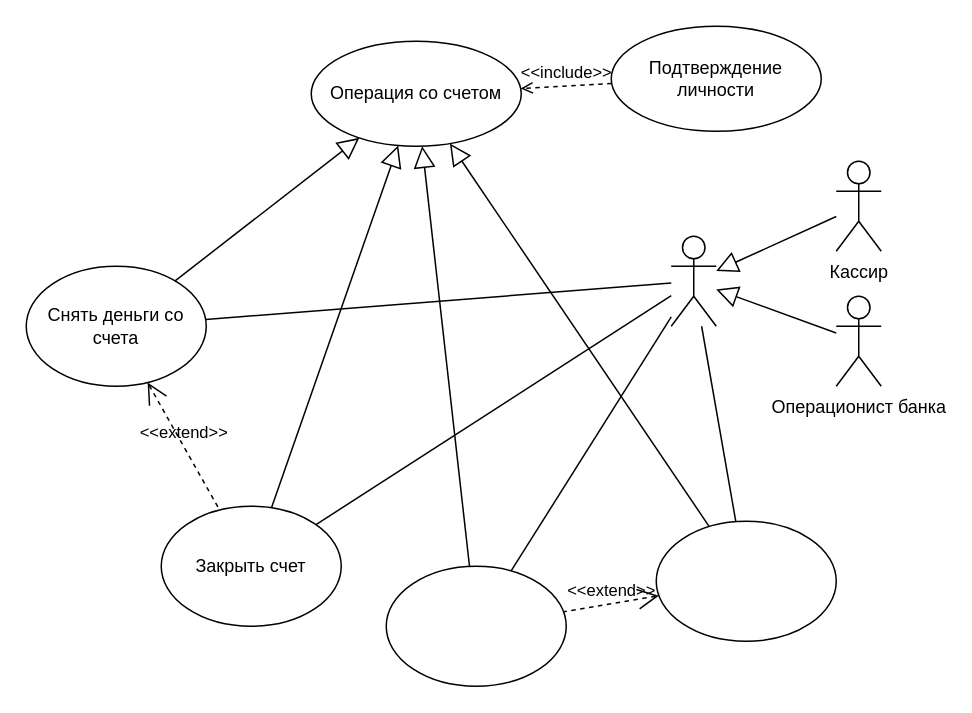
The diagram is 972 pixels wide and 713 high, and some of its shapes have lost their labels. Here are the shapes that lost their labels. From the top down, the centre of each, then its label:
At (693,280): "Клиент банка".
At (745,580): "Пополнить счет".
At (475,625): "Открыть счет".
